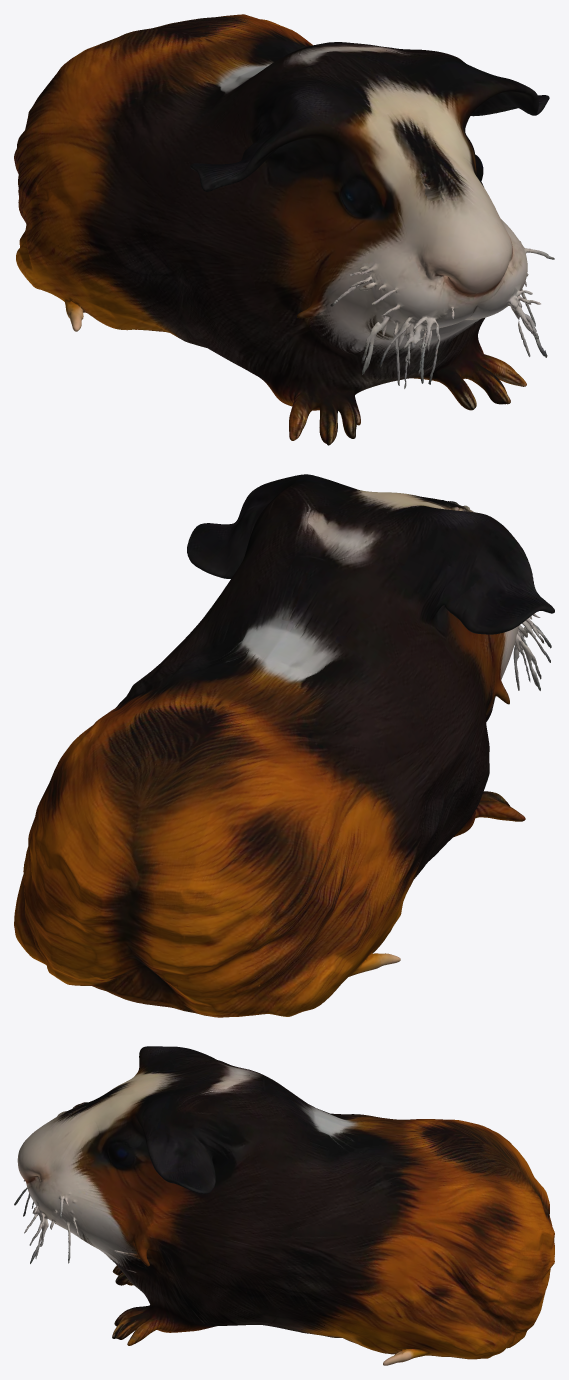
File: yuki.glb
The picture shows the model from 3 angles, top to bottom: view 1: azimuth 30°, elevation 25°; view 2: azimuth 150°, elevation 25°; view 3: azimuth 270°, elevation 25°; orthographic projection. The views are drawn at different scales.
Visible parts, largest first — view 1: tripo_node_b35d4d31-c084-470d-b723-555dbef5f3c3; view 2: tripo_node_b35d4d31-c084-470d-b723-555dbef5f3c3; view 3: tripo_node_b35d4d31-c084-470d-b723-555dbef5f3c3.
Boxes of the visible parts, x1,y1,x2,y2 form: tripo_node_b35d4d31-c084-470d-b723-555dbef5f3c3: (14,14,554,445); tripo_node_b35d4d31-c084-470d-b723-555dbef5f3c3: (14,474,554,1017); tripo_node_b35d4d31-c084-470d-b723-555dbef5f3c3: (14,1046,554,1365).
Bounding box in the file's own units: 0.5508 × 0.5001 × 1.
Materials: 1 (1 with a texture image).
